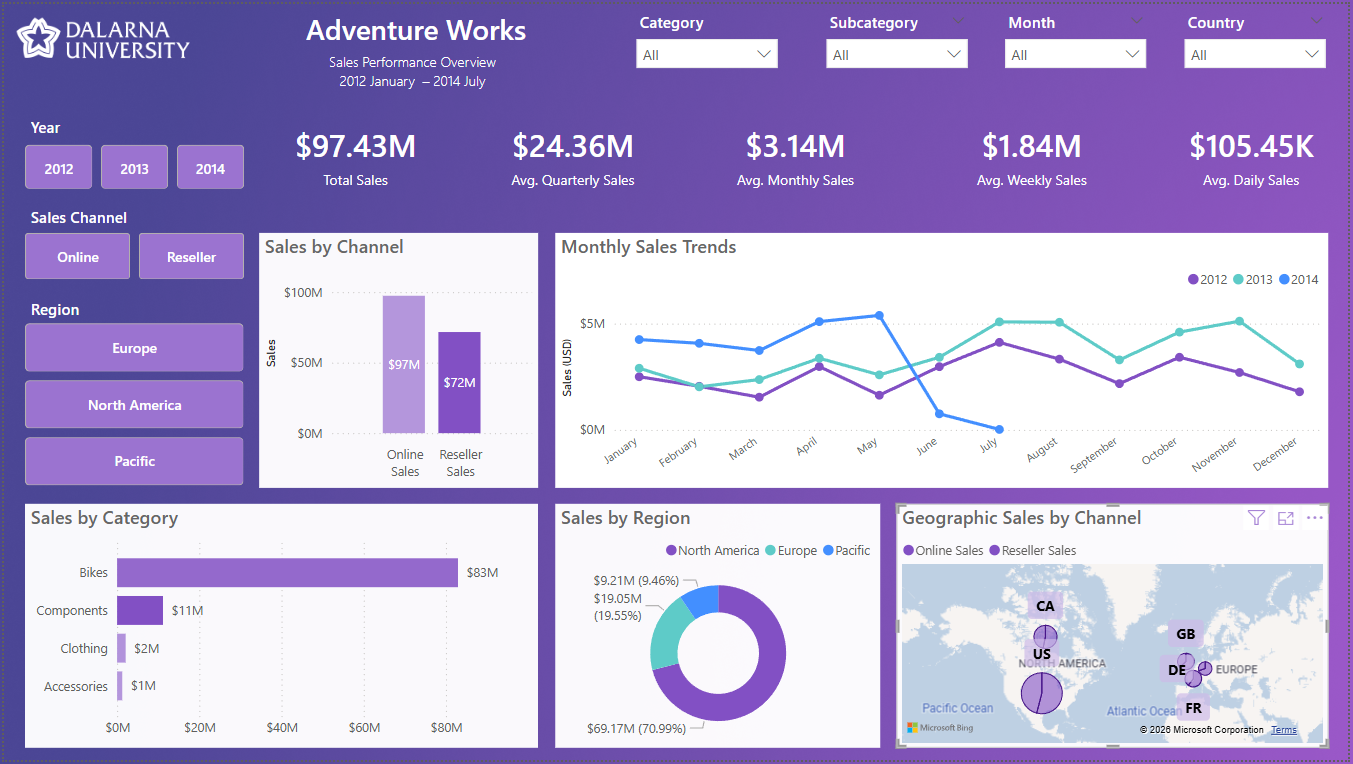

This screenshot's page, from the dashboard's own definition file:
{"tool":"powerbi","page":{"name":"Page 1","canvas":[1280,720],"ordinal":0},"visuals":[{"type":"lineChart","title":"Monthly Sales Trends","fields":{"Y":["FactInternetSales.TotalSalesMeasure"],"Category":["DimDate.EnglishMonthName"],"Series":["DimDate.CalendarYear"]},"box":[525,218,736,242],"z":0},{"type":"clusteredBarChart","title":"Sales by Category","fields":{"Y":["FactInternetSales.TotalSales"],"Category":["DimProduct.ProductHierarchy.ProductcategoryCode","DimProduct.ProductHierarchy.ProductSubcategoryCode"]},"box":[20,476,488,232],"z":1000},{"type":"donutChart","title":"Sales by Region","fields":{"Category":["DimSalesTerritory.SalesTerritoryGroup"],"Y":["FactInternetSales.TotalSales"]},"box":[525,476,309,232],"z":2000},{"type":"map","title":"Geographic Sales by Channel","fields":{"Category":["DimSalesTerritory.SalesTerritoryCountry"],"Size":["FactInternetSales.TotalSales"],"Series":["SalesModality.SalesModality"]},"box":[850,476,411,232],"z":3000},{"type":"clusteredColumnChart","title":"Sales by Channel","fields":{"Category":["SalesModality.SalesModality"],"Y":["FactInternetSales.TotalSales"]},"box":[243,218,265,242],"z":4000},{"type":"card","fields":{"Values":["FactInternetSales.TotalSales"]},"box":[253,101,162,85],"z":5000},{"type":"textbox","box":[269,40,239,49],"z":6000},{"type":"card","fields":{"Values":["FactInternetSales.Average Monthly Sales"]},"box":[672,101,162,85],"z":7000},{"type":"card","fields":{"Values":["FactInternetSales.Average Weekly Sales"]},"box":[897,101,162,85],"z":8000},{"type":"card","fields":{"Values":["FactInternetSales.Average Daily Sales"]},"box":[1106,101,162,85],"z":9000},{"type":"card","fields":{"Values":["FactInternetSales.Average Quarterly Sales"]},"box":[460,101,162,85],"z":10000},{"type":"image","box":[12,13,164,39],"z":11000},{"type":"slicer","fields":{"Values":["DimProduct.ProductcategoryCode"]},"box":[592,1,154,64],"z":12000},{"type":"slicer","fields":{"Values":["DimSalesTerritory.SalesTerritoryCountry"]},"box":[1114,1,154,64],"z":13000},{"type":"slicer","fields":{"Values":["DimProduct.ProductSubcategoryCode"]},"box":[773,1,154,64],"z":14000},{"type":"slicer","fields":{"Values":["DimDate.EnglishMonthName"]},"box":[943,1,154,64],"z":15000},{"type":"advancedSlicerVisual","fields":{"Values":["DimDate.CalendarYear"]},"box":[20,134,208,42],"z":16000},{"type":"advancedSlicerVisual","fields":{"Values":["DimSalesTerritory.SalesTerritoryGroup"]},"box":[20,304,208,156],"z":17000},{"type":"advancedSlicerVisual","fields":{"Values":["SalesModality.ChannelButtonLabel"]},"box":[20,218,208,44],"z":18000},{"type":"textbox","box":[20,101,208,33],"z":19000},{"type":"textbox","box":[20,187,208,31],"z":20000},{"type":"textbox","box":[20,274,208,30],"z":21000},{"type":"textbox","box":[243,0,298,52],"z":22000}]}

Visuals, with their boxes in screenshot pixels (x1, y1, x2, y2), scaled from the page's 1280x720 canvas onto the 1353x764 screenshot:
"Monthly Sales Trends" lineChart: 555:231:1333:488
"Sales by Category" clusteredBarChart: 21:505:537:751
"Sales by Region" donutChart: 555:505:882:751
"Geographic Sales by Channel" map: 898:505:1333:751
"Sales by Channel" clusteredColumnChart: 257:231:537:488
card - FactInternetSales.TotalSales: 267:107:439:197
textbox: 284:42:537:94
card - FactInternetSales.Average Monthly Sales: 710:107:882:197
card - FactInternetSales.Average Weekly Sales: 948:107:1119:197
card - FactInternetSales.Average Daily Sales: 1169:107:1340:197
card - FactInternetSales.Average Quarterly Sales: 486:107:657:197
image: 13:14:186:55
slicer - DimProduct.ProductcategoryCode: 626:1:789:69
slicer - DimSalesTerritory.SalesTerritoryCountry: 1178:1:1340:69
slicer - DimProduct.ProductSubcategoryCode: 817:1:980:69
slicer - DimDate.EnglishMonthName: 997:1:1160:69
advancedSlicerVisual - DimDate.CalendarYear: 21:142:241:187
advancedSlicerVisual - DimSalesTerritory.SalesTerritoryGroup: 21:323:241:488
advancedSlicerVisual - SalesModality.ChannelButtonLabel: 21:231:241:278
textbox: 21:107:241:142
textbox: 21:198:241:231
textbox: 21:291:241:323
textbox: 257:0:572:55
